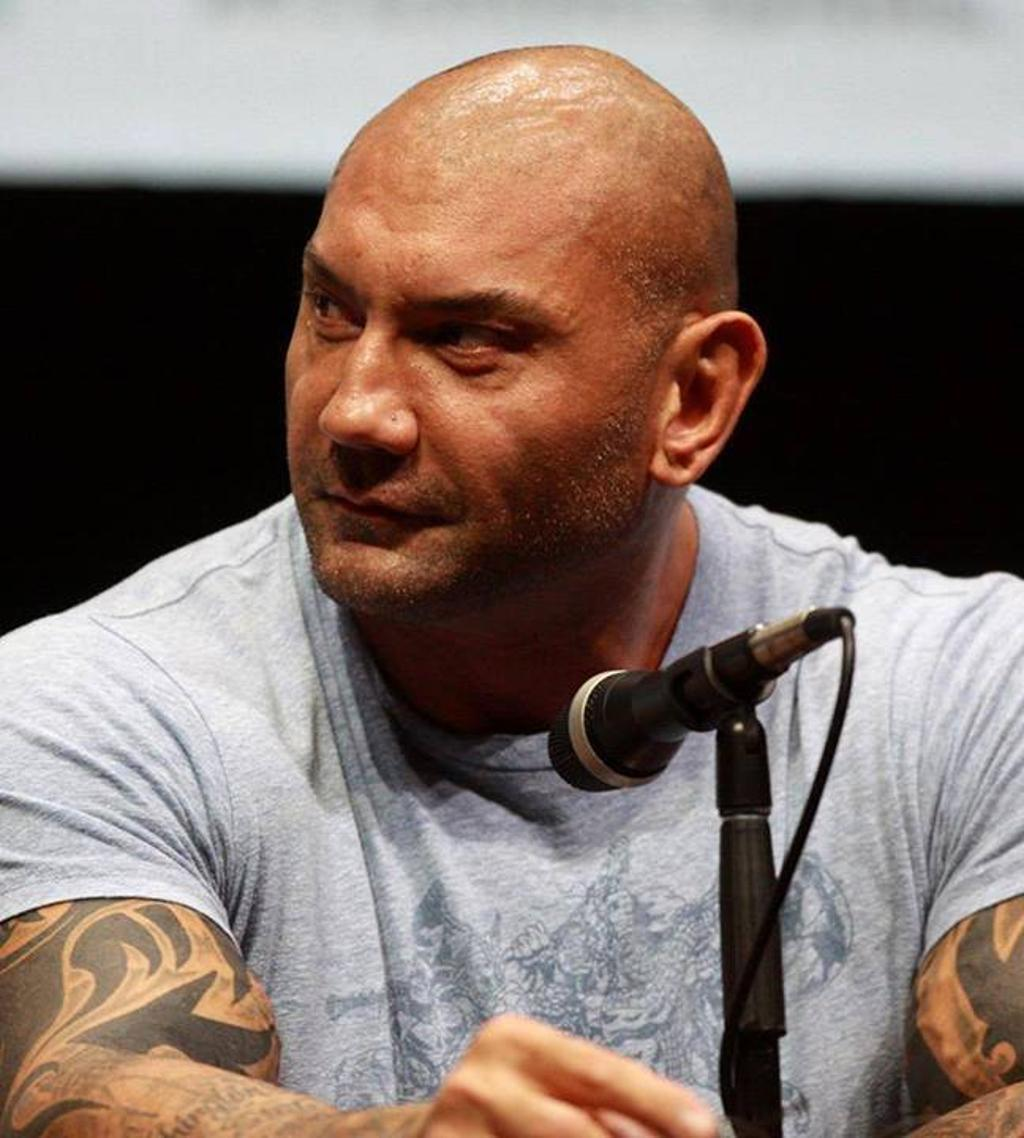face: (288, 161, 655, 612)
